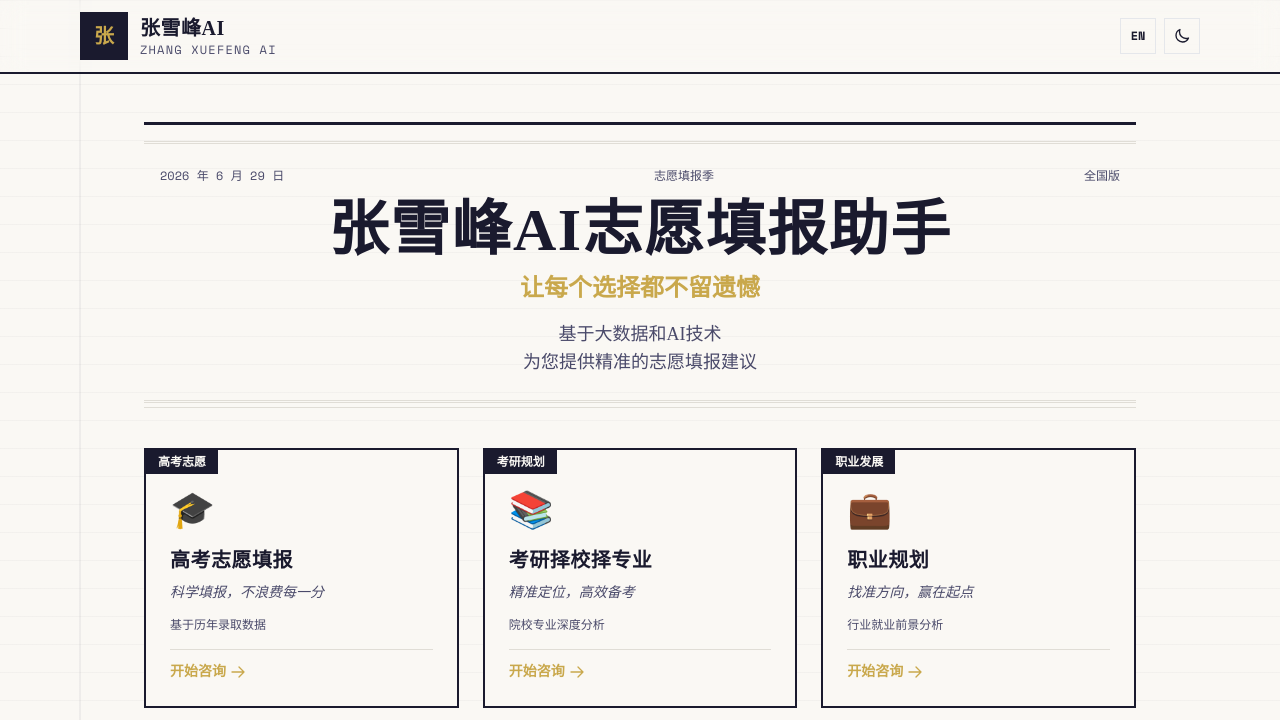
Scenario: App › shows back-to-home button when not on portal
// Navigate to form
Click the list item "高考志愿 🎓 高考志愿填报 科学填报，不浪费每一分 基于历年录取数据 开始咨询" at (182, 462), box [144,448,459,708]
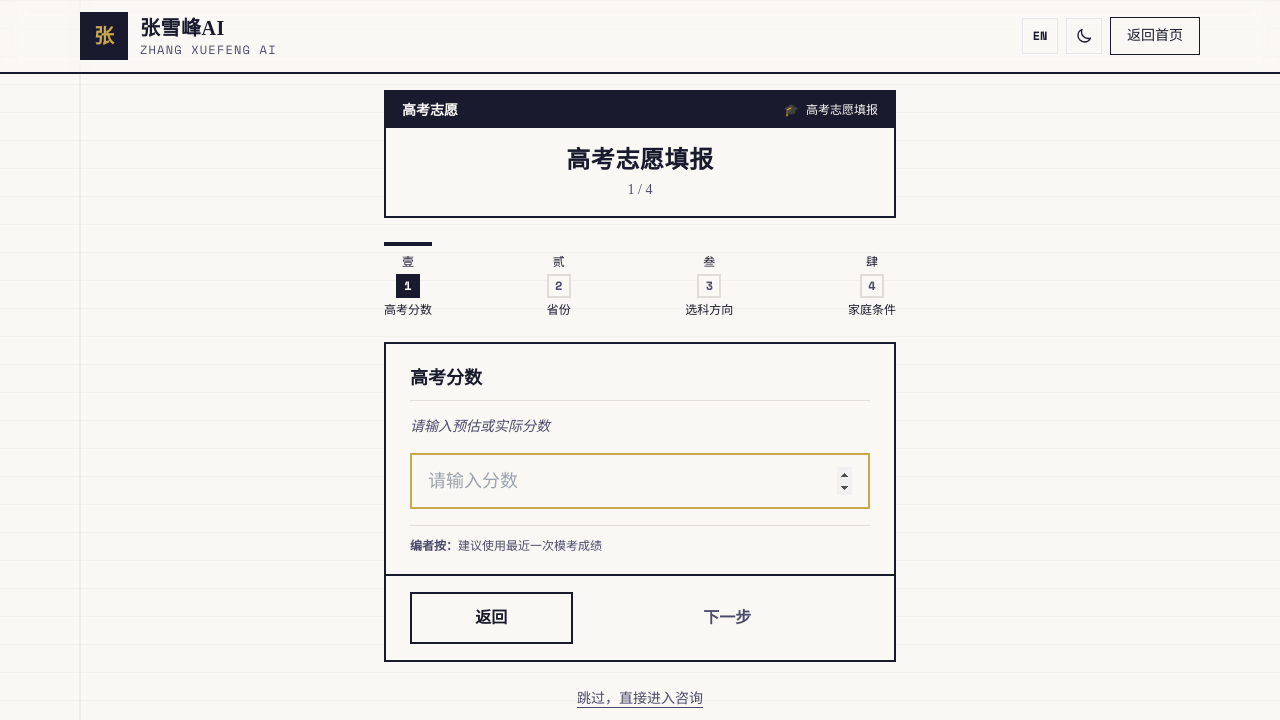
Expected: the header is shown, [0,0,1279,74]
Expected: the button "返回首页" is shown, [1110,17,1200,55]
